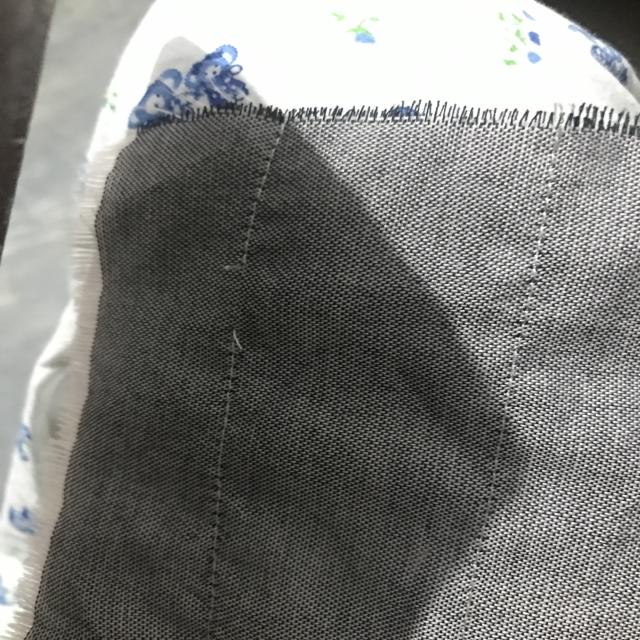broken: (203, 253, 260, 363)
good: (210, 390, 242, 474)
